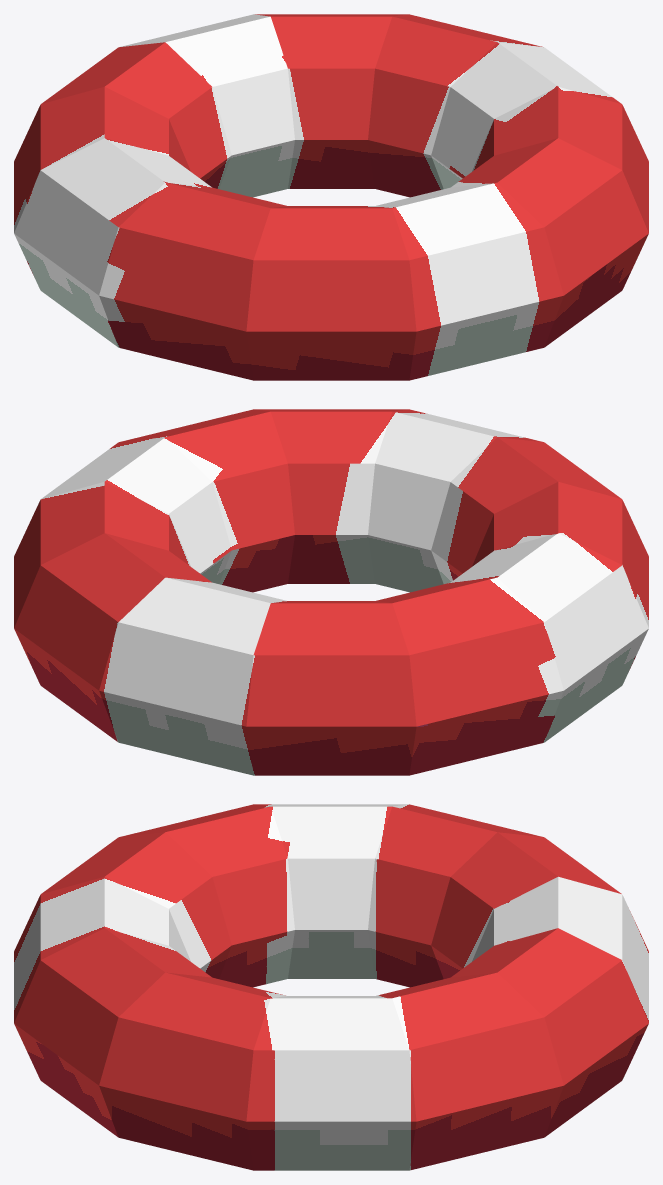
File: Boia_Dois.gltf
3 renders of one model, top to bottom at view 1: azimuth 30°, elevation 25°; view 2: azimuth 150°, elevation 25°; view 3: azimuth 270°, elevation 25°, orthographic.
Parts seen in each view (by area): view 1: torus; view 2: torus; view 3: torus.
Part boxes in pixels (x1,y1,x2,y2): torus: [14, 14, 648, 380]; torus: [14, 409, 648, 775]; torus: [14, 804, 648, 1170].
Bounding box in the file's own units: 0.4375 × 0.1294 × 0.4375.
1 material, 1 textured.
